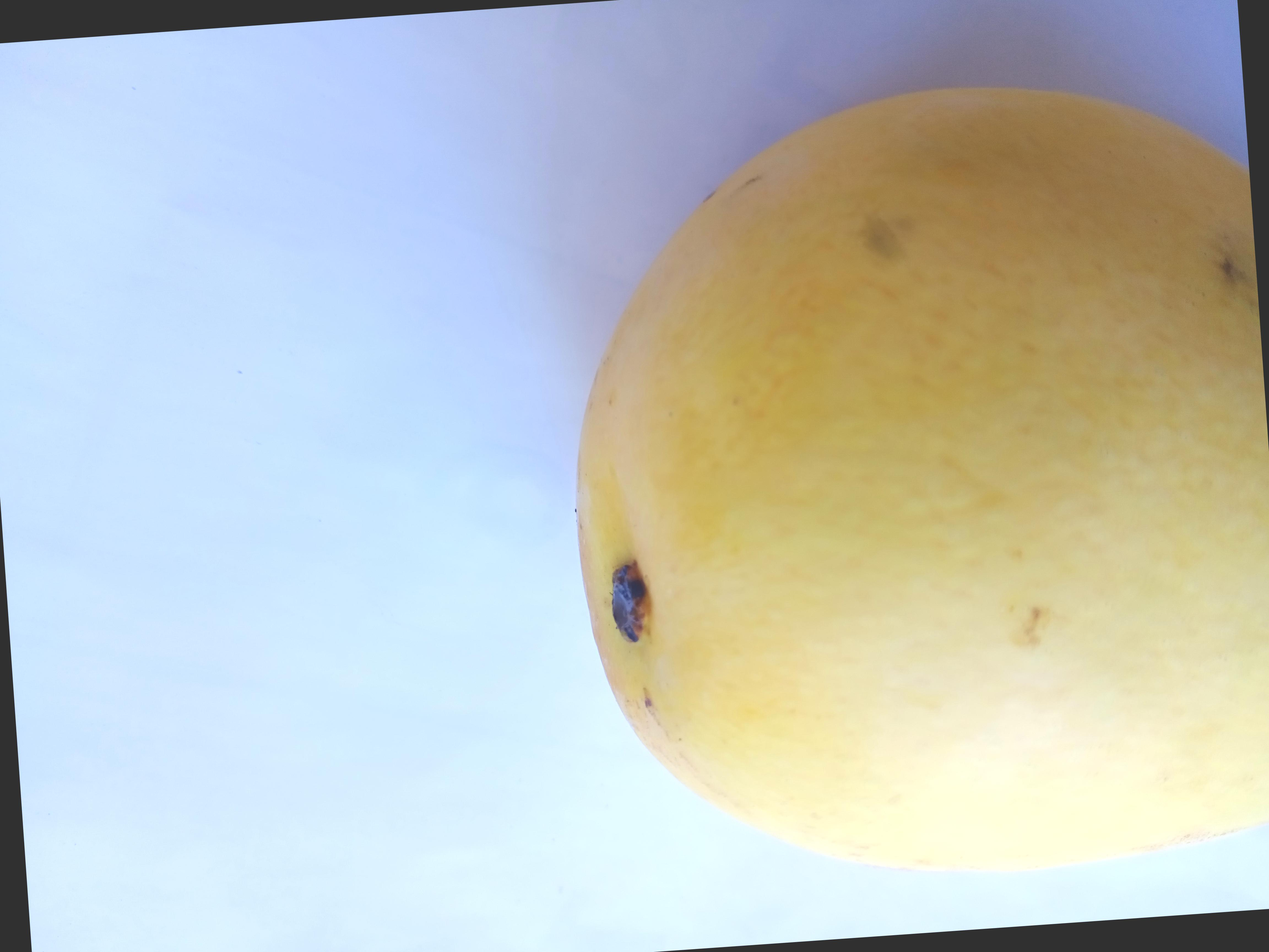Mango Ripe: (447, 72, 1259, 952)
